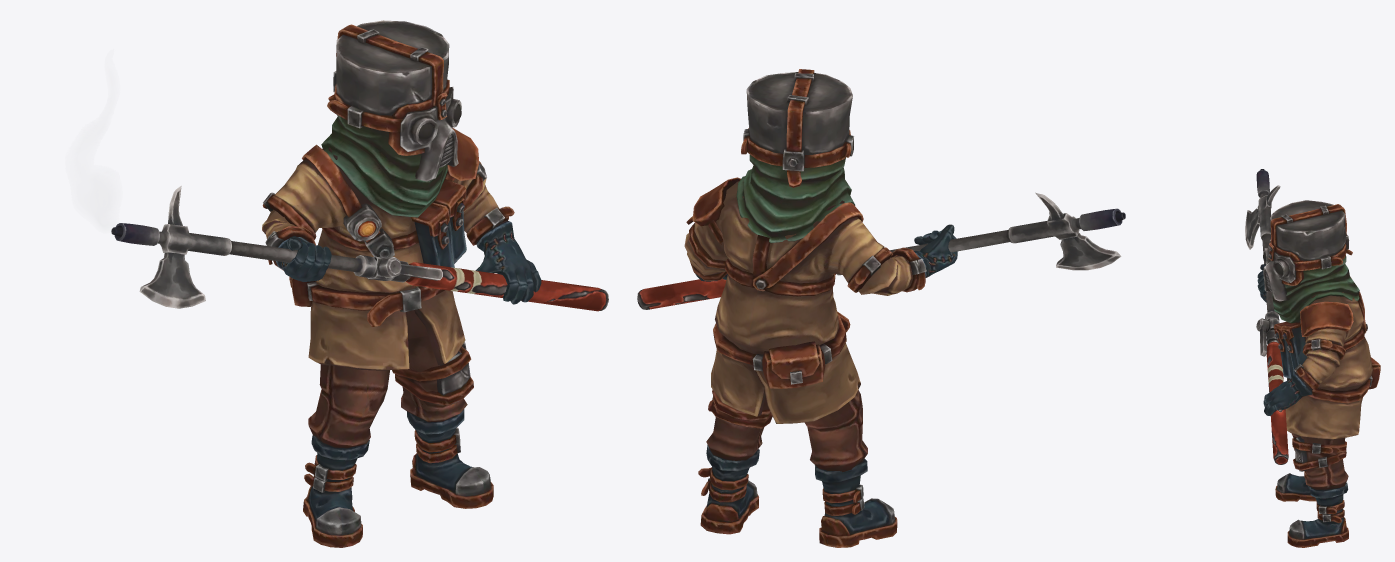
Rendered from guard-transformed.glb.
3 views of the same model, side by side, from view 1: azimuth 30°, elevation 25°; view 2: azimuth 150°, elevation 25°; view 3: azimuth 270°, elevation 25° (orthographic). The views are drawn at different scales.
Visible parts, largest first — view 1: Avatar.001, Cylinder.000; view 2: Avatar.001, Cylinder.000; view 3: Avatar.001, Cylinder.000.
Boxes of the visible parts, x1,y1,x2,y2 form: Avatar.001: [262, 20, 541, 547]; Cylinder.000: [111, 186, 608, 311]; Avatar.001: [684, 69, 957, 547]; Cylinder.000: [637, 192, 1125, 309]; Avatar.001: [1257, 200, 1380, 547]; Cylinder.000: [1245, 169, 1288, 464].
Bounding box in the file's own units: 6.15 × 5.61 × 1.84.
Materials: 3 (3 with a texture image).
